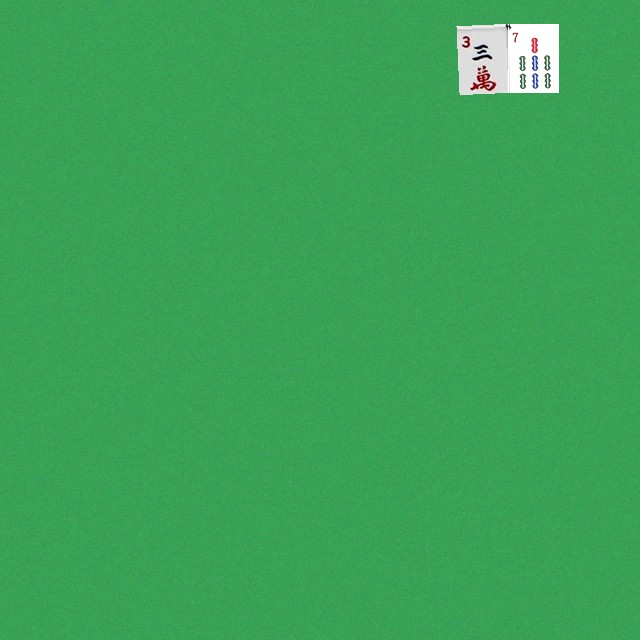tile: (456, 23, 507, 92), (507, 23, 558, 92)
